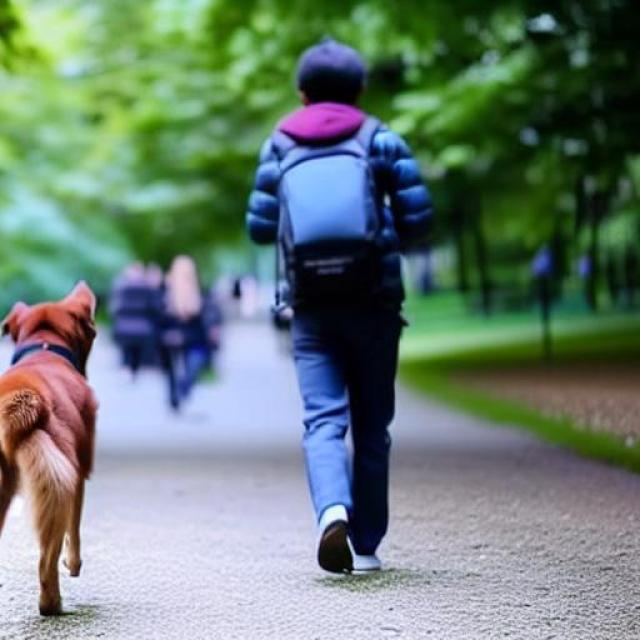Unleashed_Dog: (0, 257, 397, 617)
